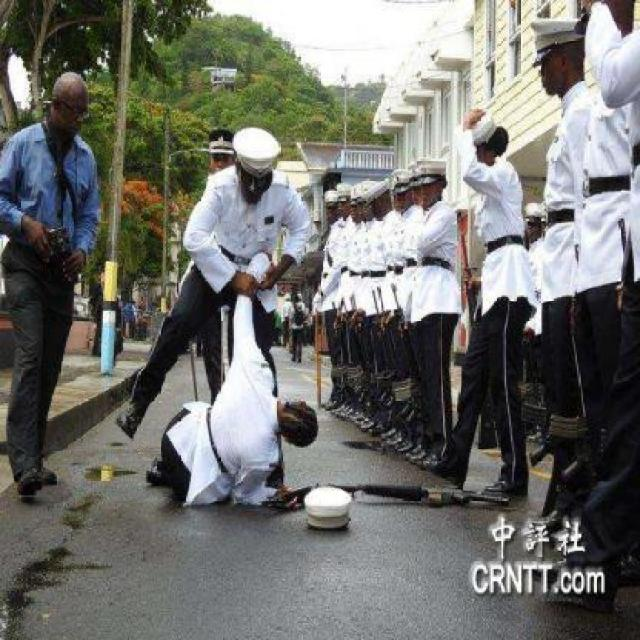fall: (150, 246, 333, 519)
